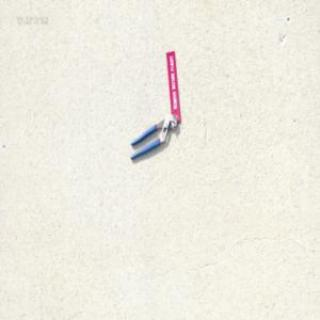LuggageTagtrack_idkeyframe: (164, 50, 180, 122)
Pliertrack_idkeyframe: (129, 114, 177, 161)
